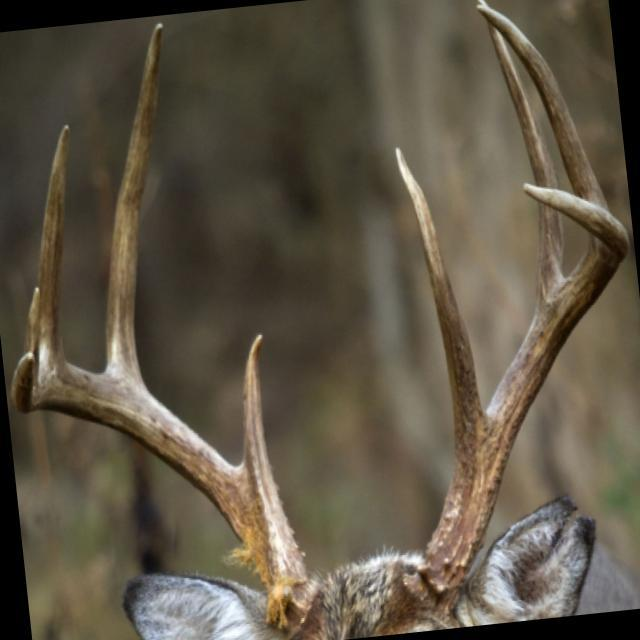L-F: (428, 182, 628, 570)
L-G1: (394, 146, 482, 459)
R-F: (11, 350, 306, 607)
R-G1: (242, 331, 278, 493)
R-G2: (105, 21, 165, 379)
R-G3: (37, 124, 69, 366)
